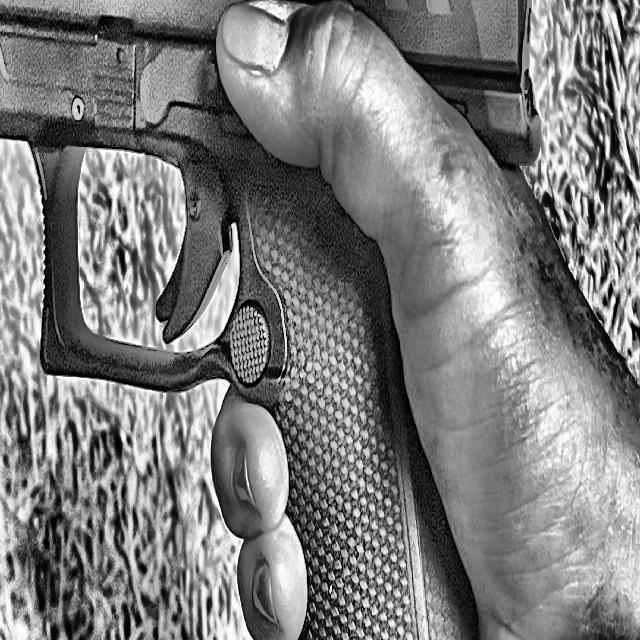Walther: (0, 0, 543, 640)
